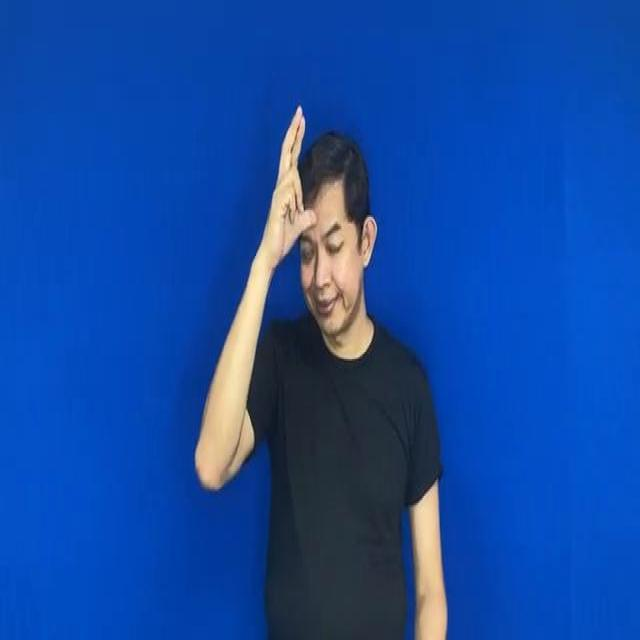chicken: (266, 88, 322, 262)
